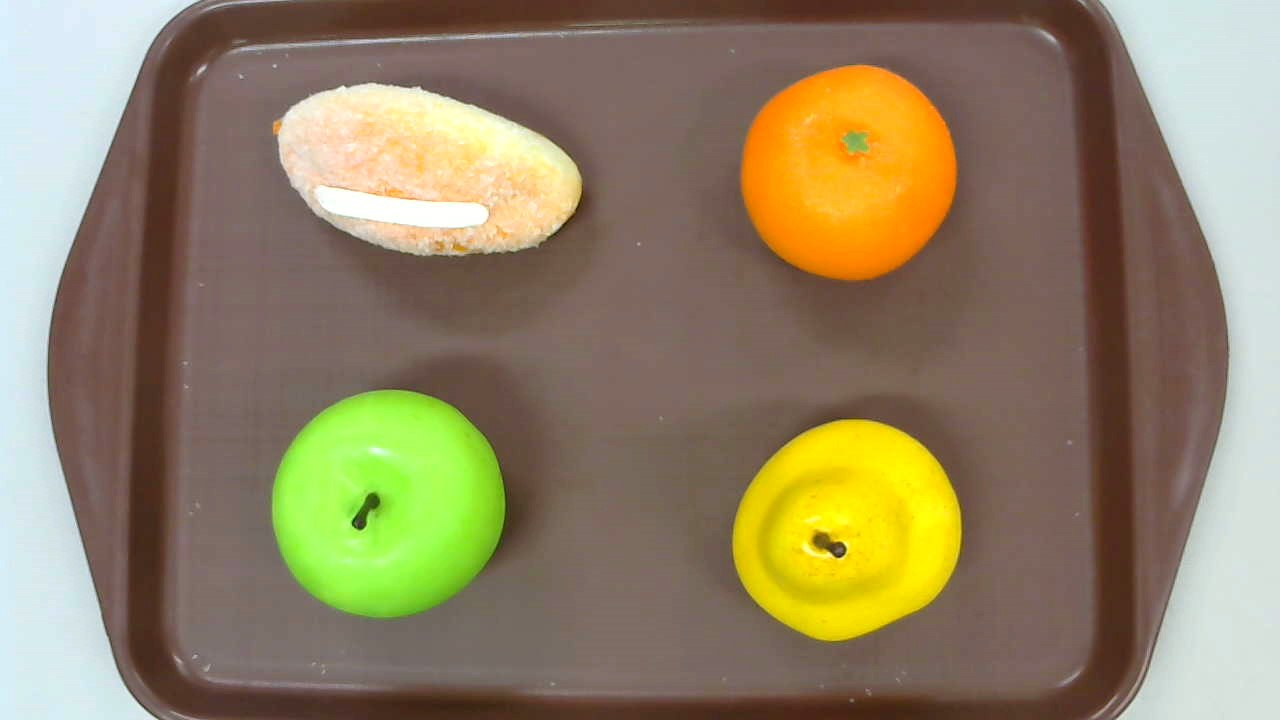coconut: (272, 83, 584, 260)
green apple: (271, 388, 505, 618)
orange: (740, 65, 955, 284)
yellow pear: (731, 418, 960, 642)
